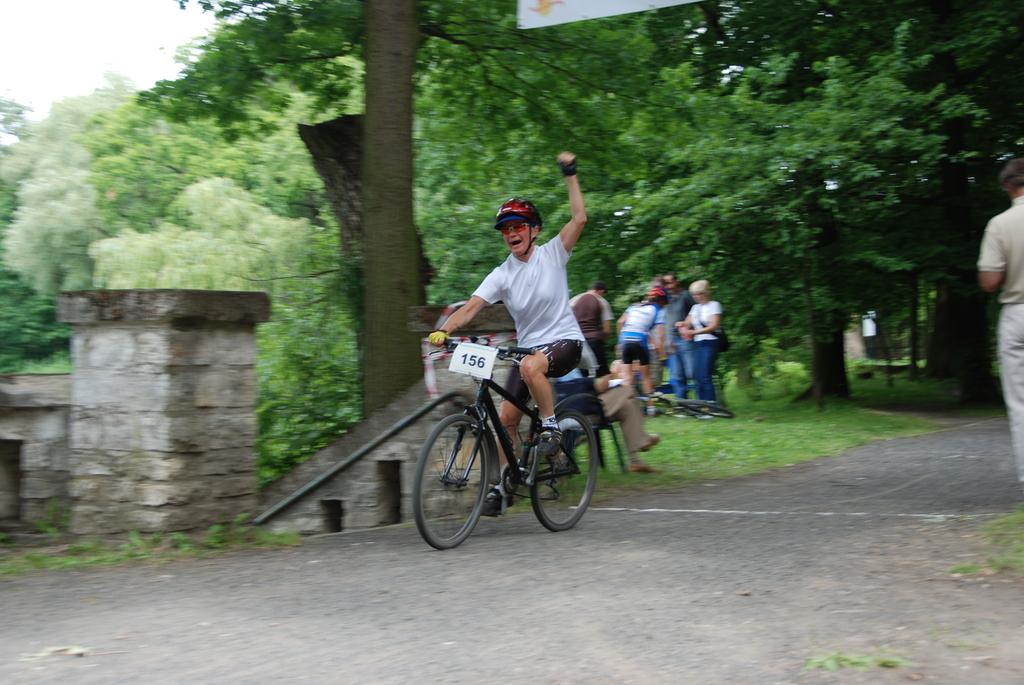Bike: (397, 335, 581, 578)
